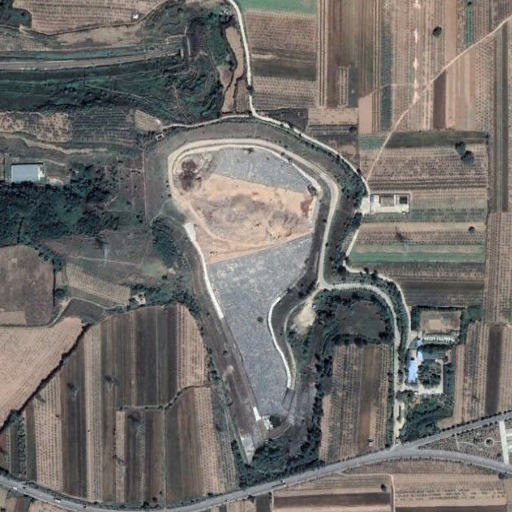lf: (164, 139, 337, 425)
